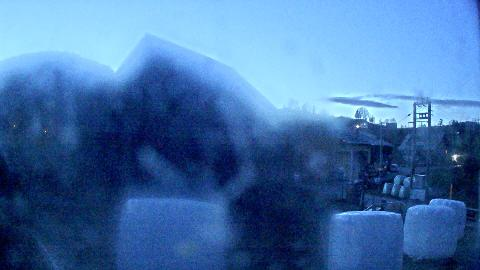car: (390, 164, 398, 172)
sheep: (381, 198, 405, 214)
